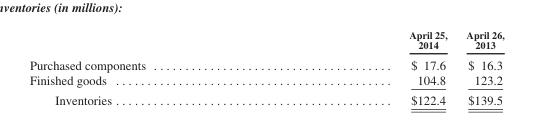table: (28, 28, 503, 106)
table column: (28, 28, 276, 106), (276, 28, 456, 106), (456, 28, 503, 106)
table column header: (28, 28, 503, 53)
table row: (28, 28, 503, 53), (28, 53, 503, 71), (28, 71, 503, 89), (28, 89, 503, 106)
